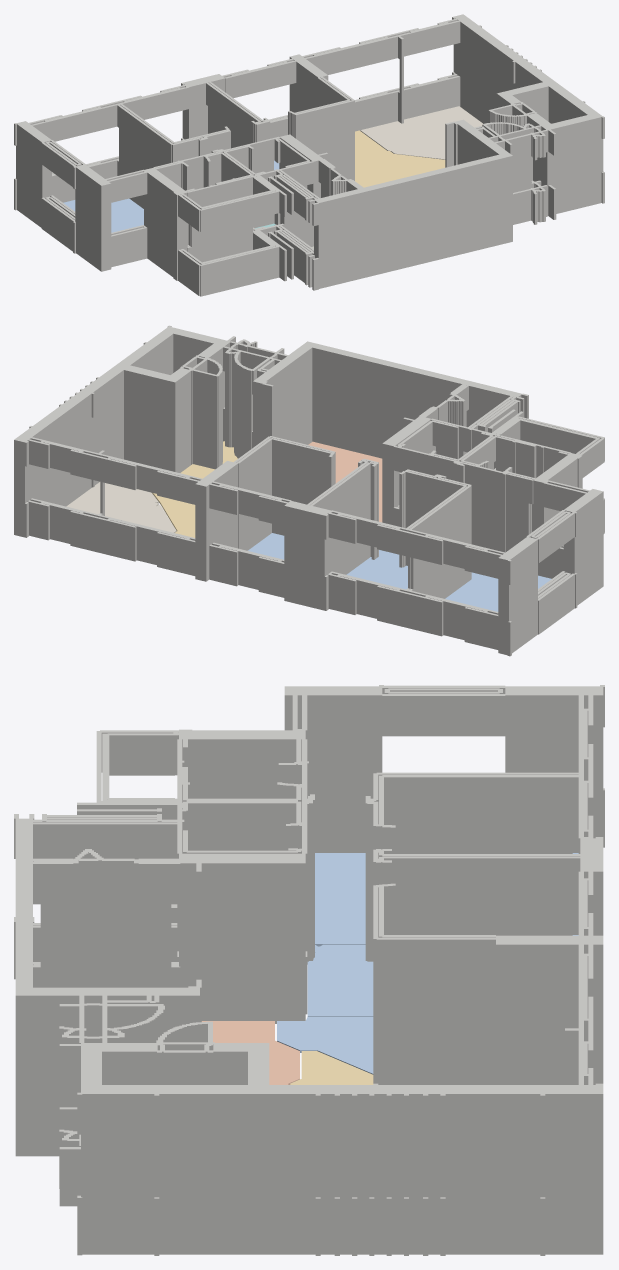
The picture shows the model from 3 angles, top to bottom: view 1: azimuth 30°, elevation 25°; view 2: azimuth 150°, elevation 25°; view 3: azimuth 270°, elevation 25°; orthographic projection. The views are drawn at different scales.
Visible parts, largest first — view 1: walls, room:other:3, room:living:9, room:bedroom:0; view 2: walls, room:other:3, room:living:9, room:bedroom:0, room:bedroom:1, room:kitchen:8, room:bedroom:2; view 3: walls, room:bedroom:0, room:bedroom:1, room:bedroom:2, room:kitchen:8, room:living:9.
Part boxes in pixels (x1,y1,x2,y2): walls: (14, 14, 604, 296); room:other:3: (360, 106, 483, 159); room:living:9: (355, 130, 445, 187); room:bedroom:0: (63, 198, 143, 232); walls: (14, 325, 604, 656); room:other:3: (66, 482, 176, 532); room:living:9: (152, 441, 237, 537); room:bedroom:0: (445, 572, 551, 611); room:bedroom:1: (346, 550, 407, 589); room:kitchen:8: (308, 441, 382, 522); room:bedroom:2: (248, 533, 284, 559); walls: (14, 685, 604, 1255); room:bedroom:0: (315, 853, 578, 946); room:bedroom:1: (307, 935, 578, 1016); room:bedroom:2: (277, 1017, 373, 1074); room:kitchen:8: (201, 1021, 299, 1084); room:living:9: (290, 1051, 373, 1084).
Bounding box in the file's own units: 15.36 × 2.8 × 9.35.
